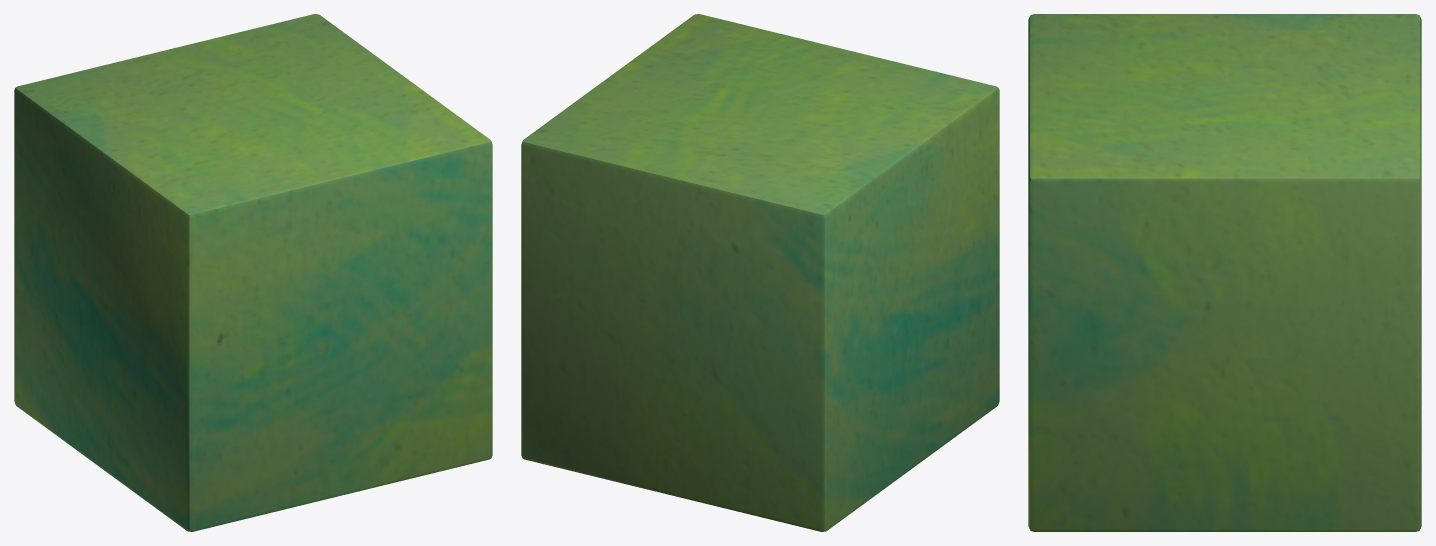
The model's file is FOREST_GROUND.obj.
3 views of the same model, side by side, from view 1: azimuth 30°, elevation 25°; view 2: azimuth 150°, elevation 25°; view 3: azimuth 270°, elevation 25° (orthographic). The views are drawn at different scales.
Parts seen in each view (by area): view 1: FOREST_GROUND.006; view 2: FOREST_GROUND.006; view 3: FOREST_GROUND.006.
Boxes of the visible parts, x1,y1,x2,y2 form: FOREST_GROUND.006: (14,14,492,531); FOREST_GROUND.006: (521,14,999,531); FOREST_GROUND.006: (1028,14,1421,531).
Bounding box in the file's own units: 1 × 1 × 1.
